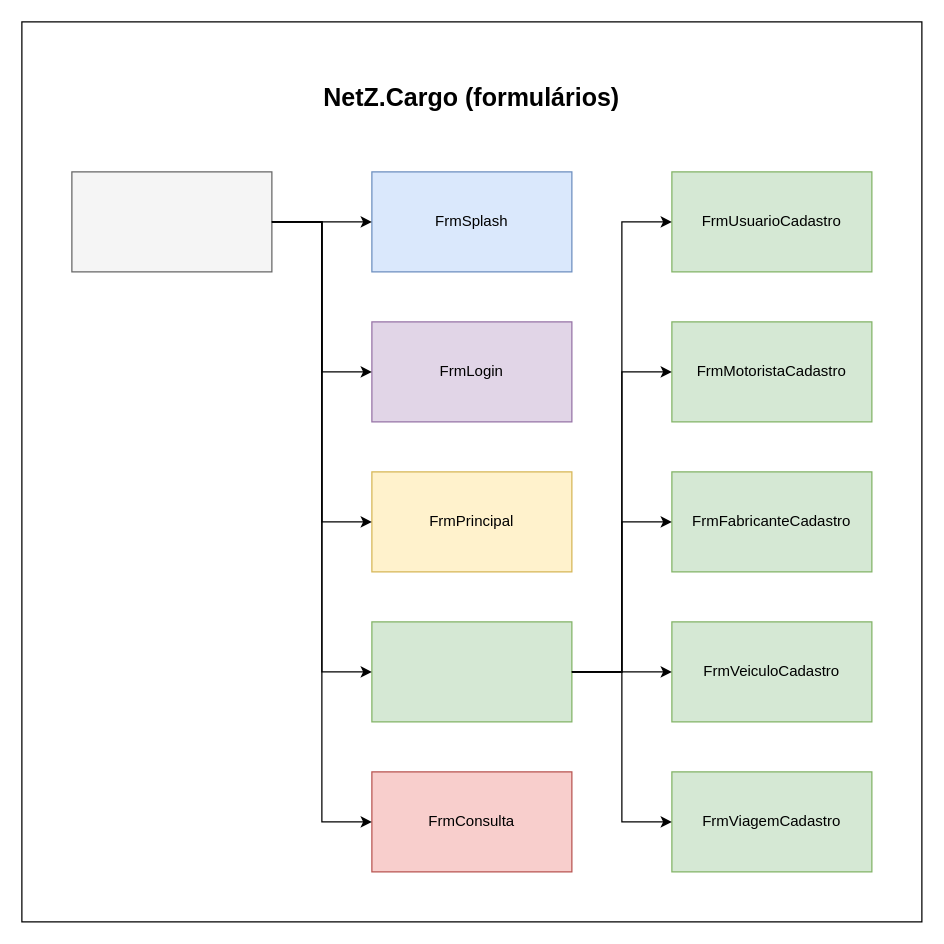
This 944x944 diagram has some shape labels left out. Each missing label, with the centre of its shape:
FrmBase: the point at 171,221
FrmCadastroBase: the point at 471,671
